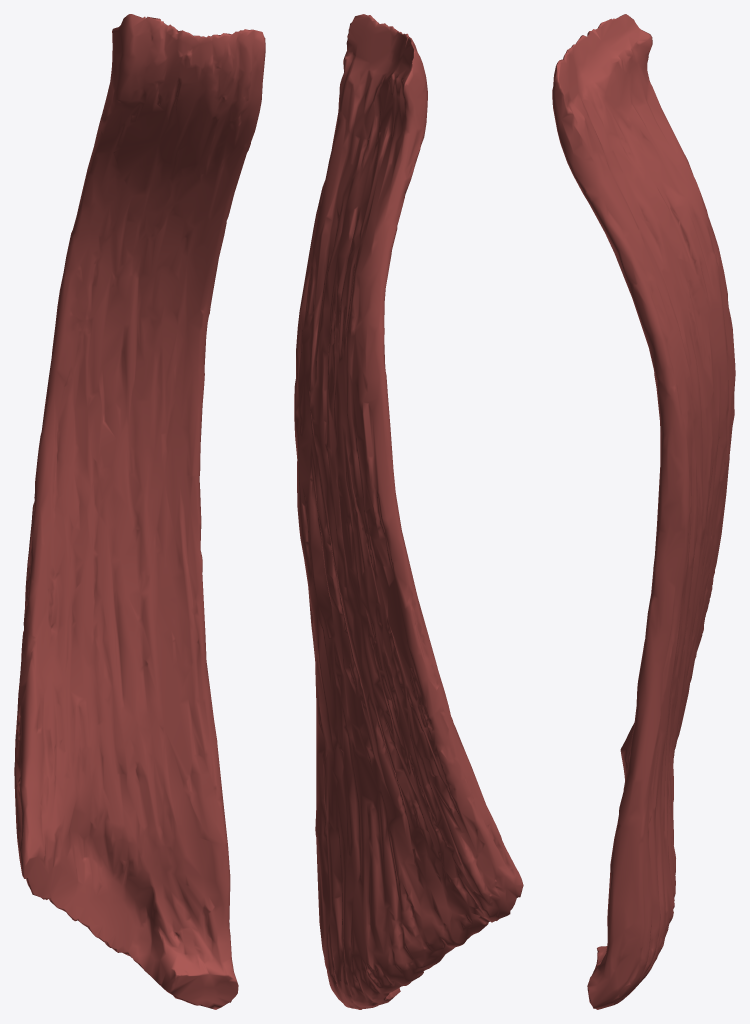
The model's file is FMA13346.glb.
3 renders of one model, left to right at view 1: azimuth 30°, elevation 25°; view 2: azimuth 150°, elevation 25°; view 3: azimuth 270°, elevation 25°, orthographic. The views are drawn at different scales.
Parts seen in each view (by area): view 1: FMA13346; view 2: FMA13346; view 3: FMA13346.
Boxes of the visible parts, x1,y1,x2,y2 form: FMA13346: (14, 14, 265, 1009); FMA13346: (294, 14, 523, 1009); FMA13346: (552, 14, 735, 1009).
Bounding box in the file's own units: 0.023 × 0.1047 × 0.0181.
